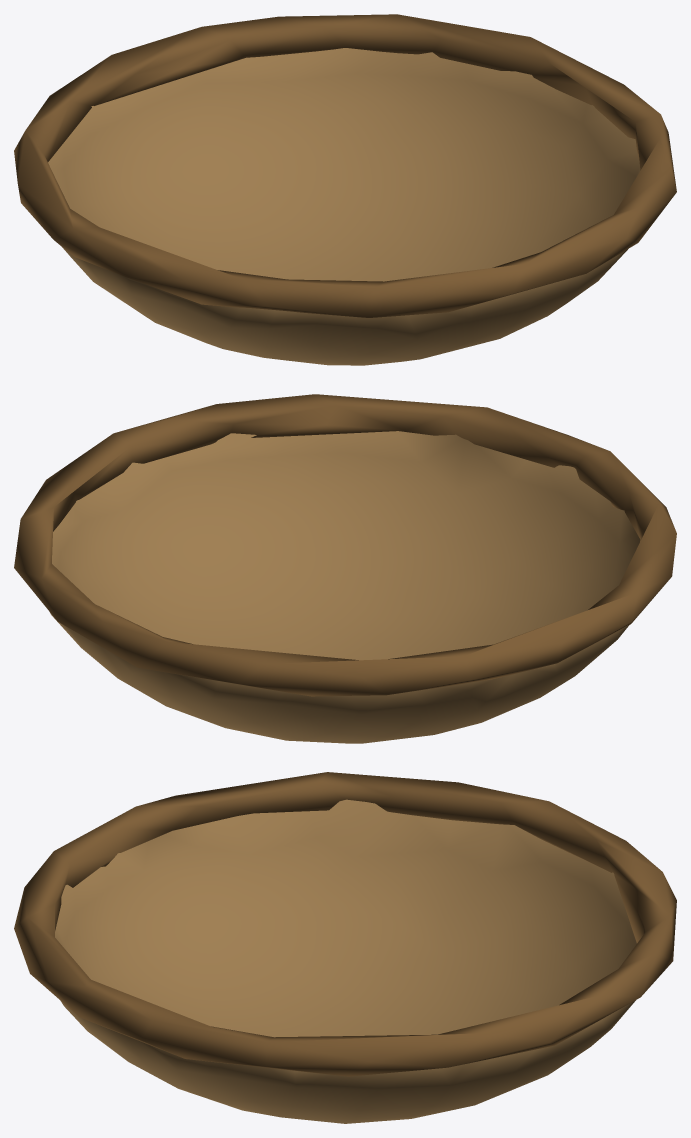
File: ro_tre.glb
3 renders of one model, top to bottom at view 1: azimuth 30°, elevation 25°; view 2: azimuth 150°, elevation 25°; view 3: azimuth 270°, elevation 25°, orthographic.
Parts seen in each view (by area): view 1: ro_tre; view 2: ro_tre; view 3: ro_tre.
Boxes of the visible parts, bbox=[...] form: ro_tre: bbox=[14, 14, 676, 365]; ro_tre: bbox=[14, 394, 676, 743]; ro_tre: bbox=[14, 772, 676, 1123].
Size of the model in its own units: 0.2914 by 0.0822 by 0.2895.
